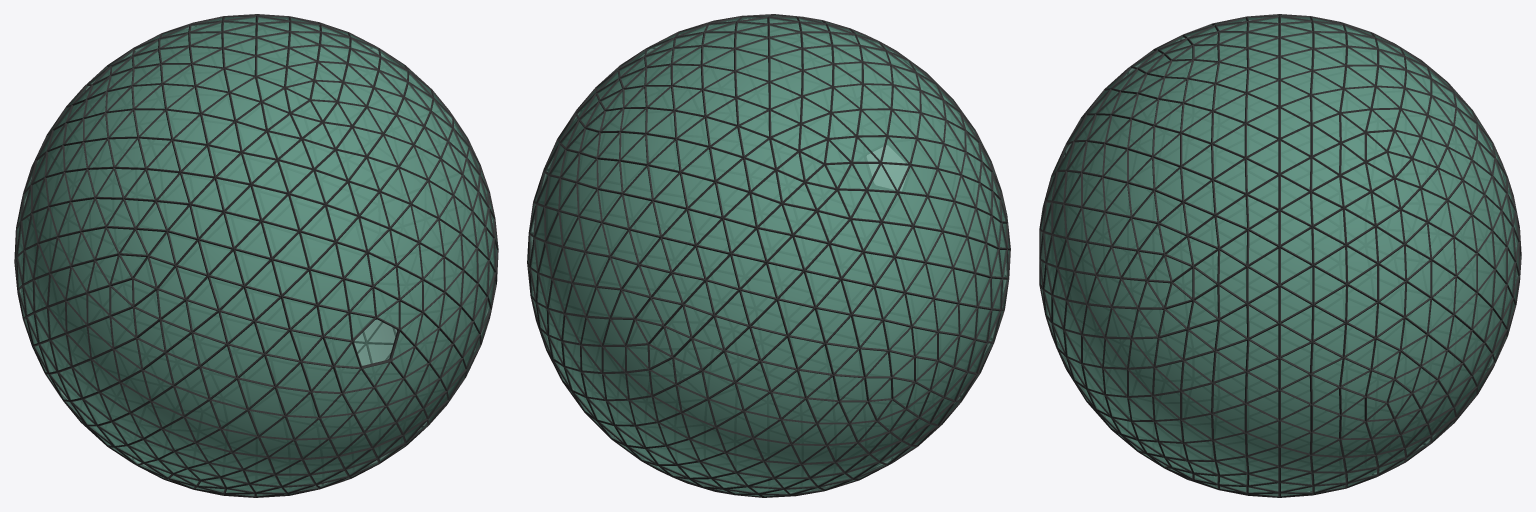
The model's file is GravityDome.fbx.
The picture shows the model from 3 angles, left to right: view 1: azimuth 30°, elevation 25°; view 2: azimuth 150°, elevation 25°; view 3: azimuth 270°, elevation 25°; orthographic projection.
Parts seen in each view (by area): view 1: Glass, Beams; view 2: Glass, Beams; view 3: Glass, Beams.
Boxes of the visible parts, x1,y1,x2,y2 form: Glass: [16, 17, 496, 496]; Beams: [14, 14, 498, 497]; Glass: [528, 15, 1009, 496]; Beams: [527, 14, 1010, 497]; Glass: [1040, 15, 1520, 496]; Beams: [1039, 14, 1521, 497].
Bounding box in the file's own units: 201 × 201 × 200.
